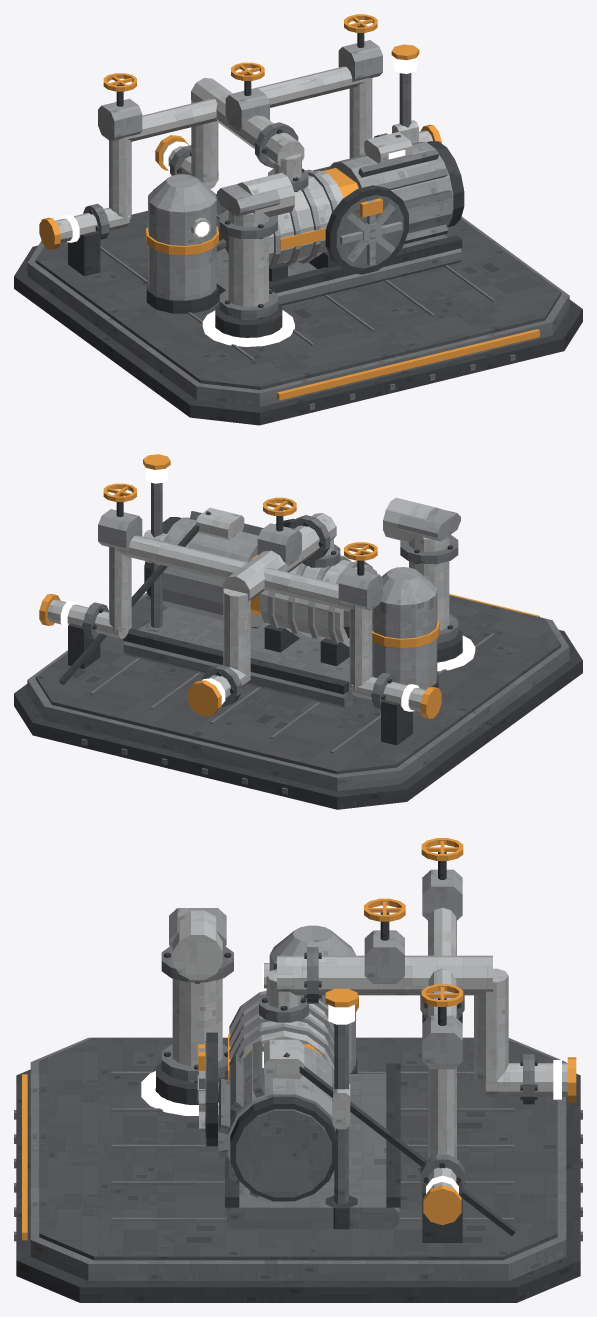
File: pump_lod0.glb
The picture shows the model from 3 angles, top to bottom: view 1: azimuth 30°, elevation 25°; view 2: azimuth 150°, elevation 25°; view 3: azimuth 270°, elevation 25°; orthographic projection. The views are drawn at different scales.
Visible parts, largest first — view 1: pump_base_body, pump_base_trim, pump_wheel_body, pump_base_glow; view 2: pump_base_body, pump_base_trim, pump_base_glow; view 3: pump_base_body, pump_base_trim, pump_base_glow, pump_wheel_body.
Boxes of the visible parts, <box> form: pump_base_body: <box>14,25,582,425</box>; pump_base_trim: <box>39,14,539,400</box>; pump_wheel_body: <box>325,185,408,274</box>; pump_base_glow: <box>62,57,419,346</box>; pump_base_body: <box>14,482,582,809</box>; pump_base_trim: <box>39,454,539,718</box>; pump_base_glow: <box>60,467,475,711</box>; pump_base_body: <box>14,852,582,1302</box>; pump_base_trim: <box>22,838,576,1240</box>; pump_base_glow: <box>141,965,561,1193</box>; pump_wheel_body: <box>197,1032,217,1146</box>.
Bounding box in the file's own units: 1.96 × 1.02 × 1.98.
3 materials, 1 textured.
